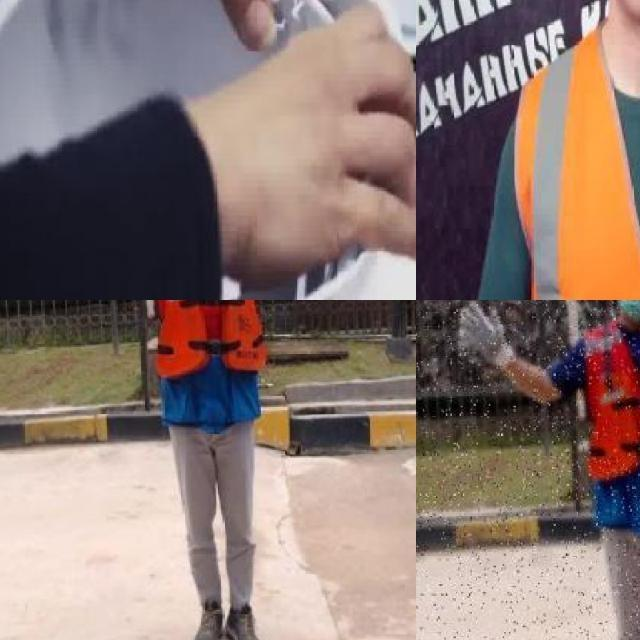apron: (457, 300, 515, 376)
